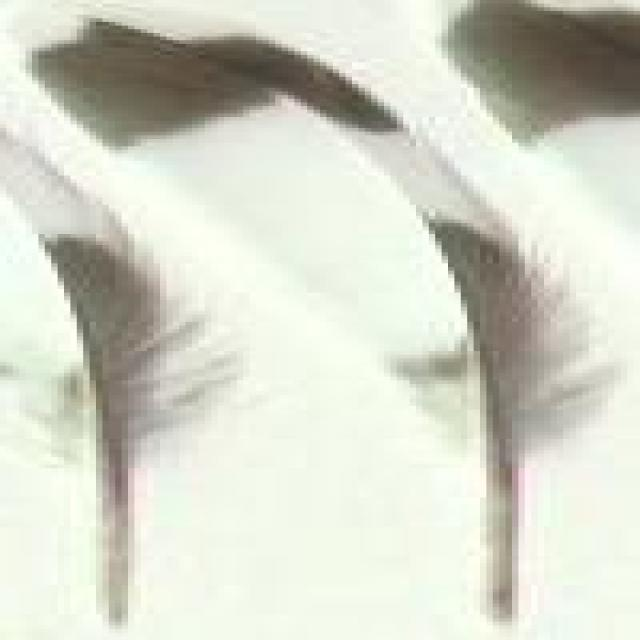feather: (11, 11, 637, 626), (0, 123, 243, 628)
